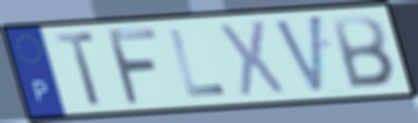B: (329, 13, 398, 90)
F: (103, 26, 162, 108)
L: (166, 28, 229, 99)
T: (52, 29, 105, 109)
V: (271, 11, 325, 97)
X: (216, 18, 288, 99)
